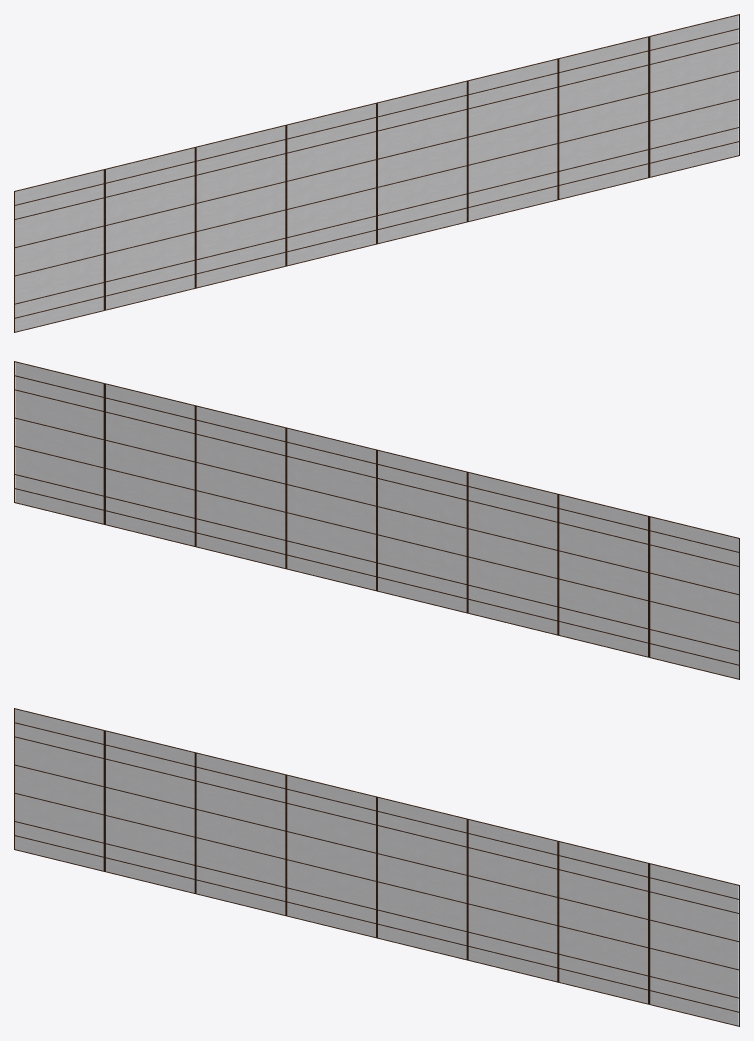
File: Screen-Test-3.fbx
3 renders of one model, top to bottom at view 1: azimuth 30°, elevation 25°; view 2: azimuth 150°, elevation 25°; view 3: azimuth 330°, elevation 25°, orthographic.
Parts seen in each view (by area): view 1: Cube.000, Cube.001; view 2: Cube.000, Cube.001; view 3: Cube.000, Cube.001.
Part boxes in pixels (x1,y1,x2,y2): Cube.000: [15, 15, 738, 331]; Cube.001: [14, 14, 739, 332]; Cube.000: [15, 362, 738, 678]; Cube.001: [14, 361, 739, 679]; Cube.000: [15, 709, 738, 1025]; Cube.001: [14, 708, 739, 1026].
Bounding box in the file's own units: 1078 × 201 × 1.23.
2 materials, 2 textured.
